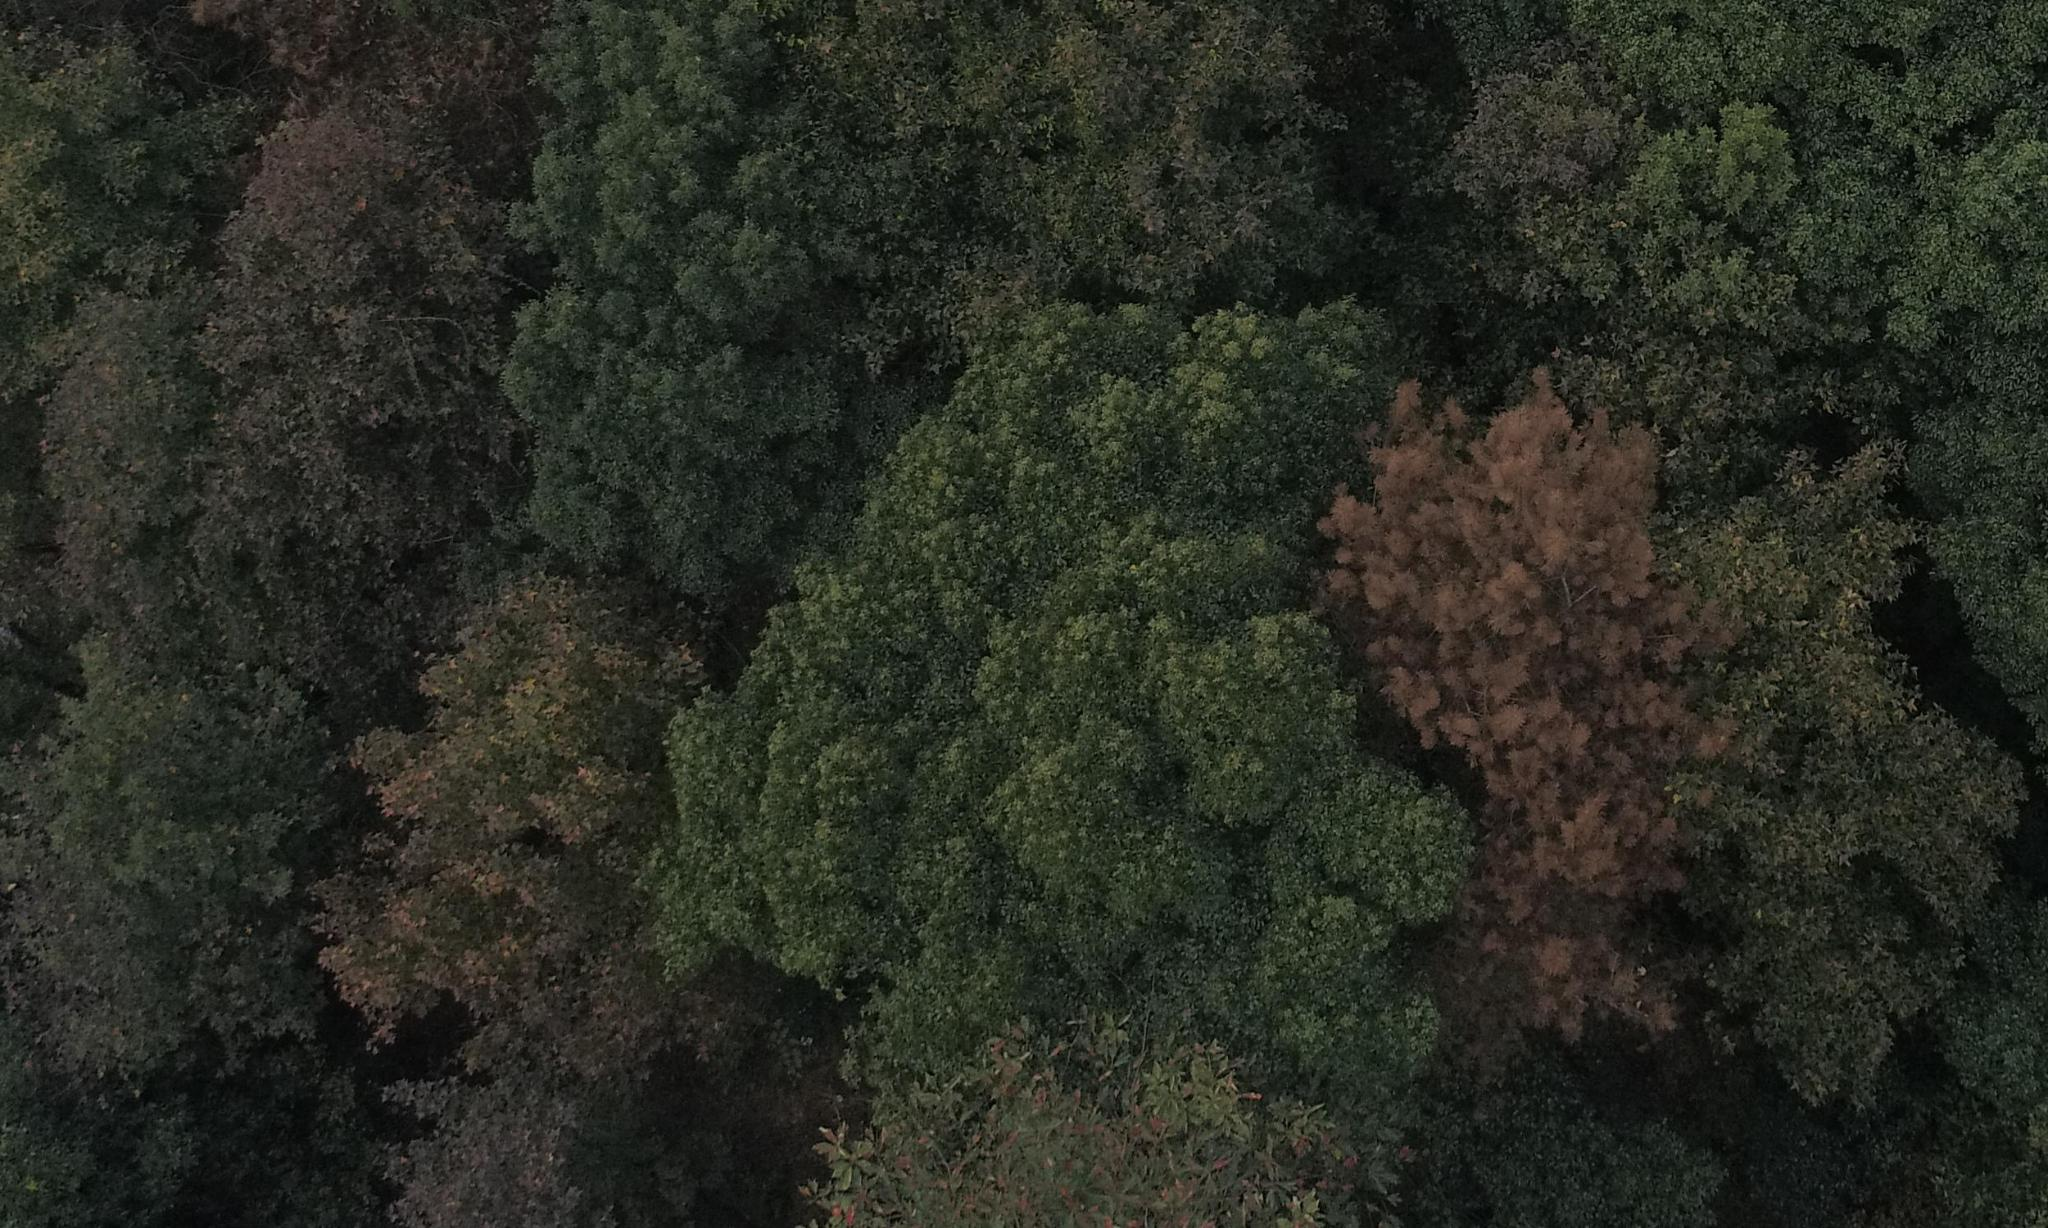heavy: (1316, 383, 1732, 1063)
